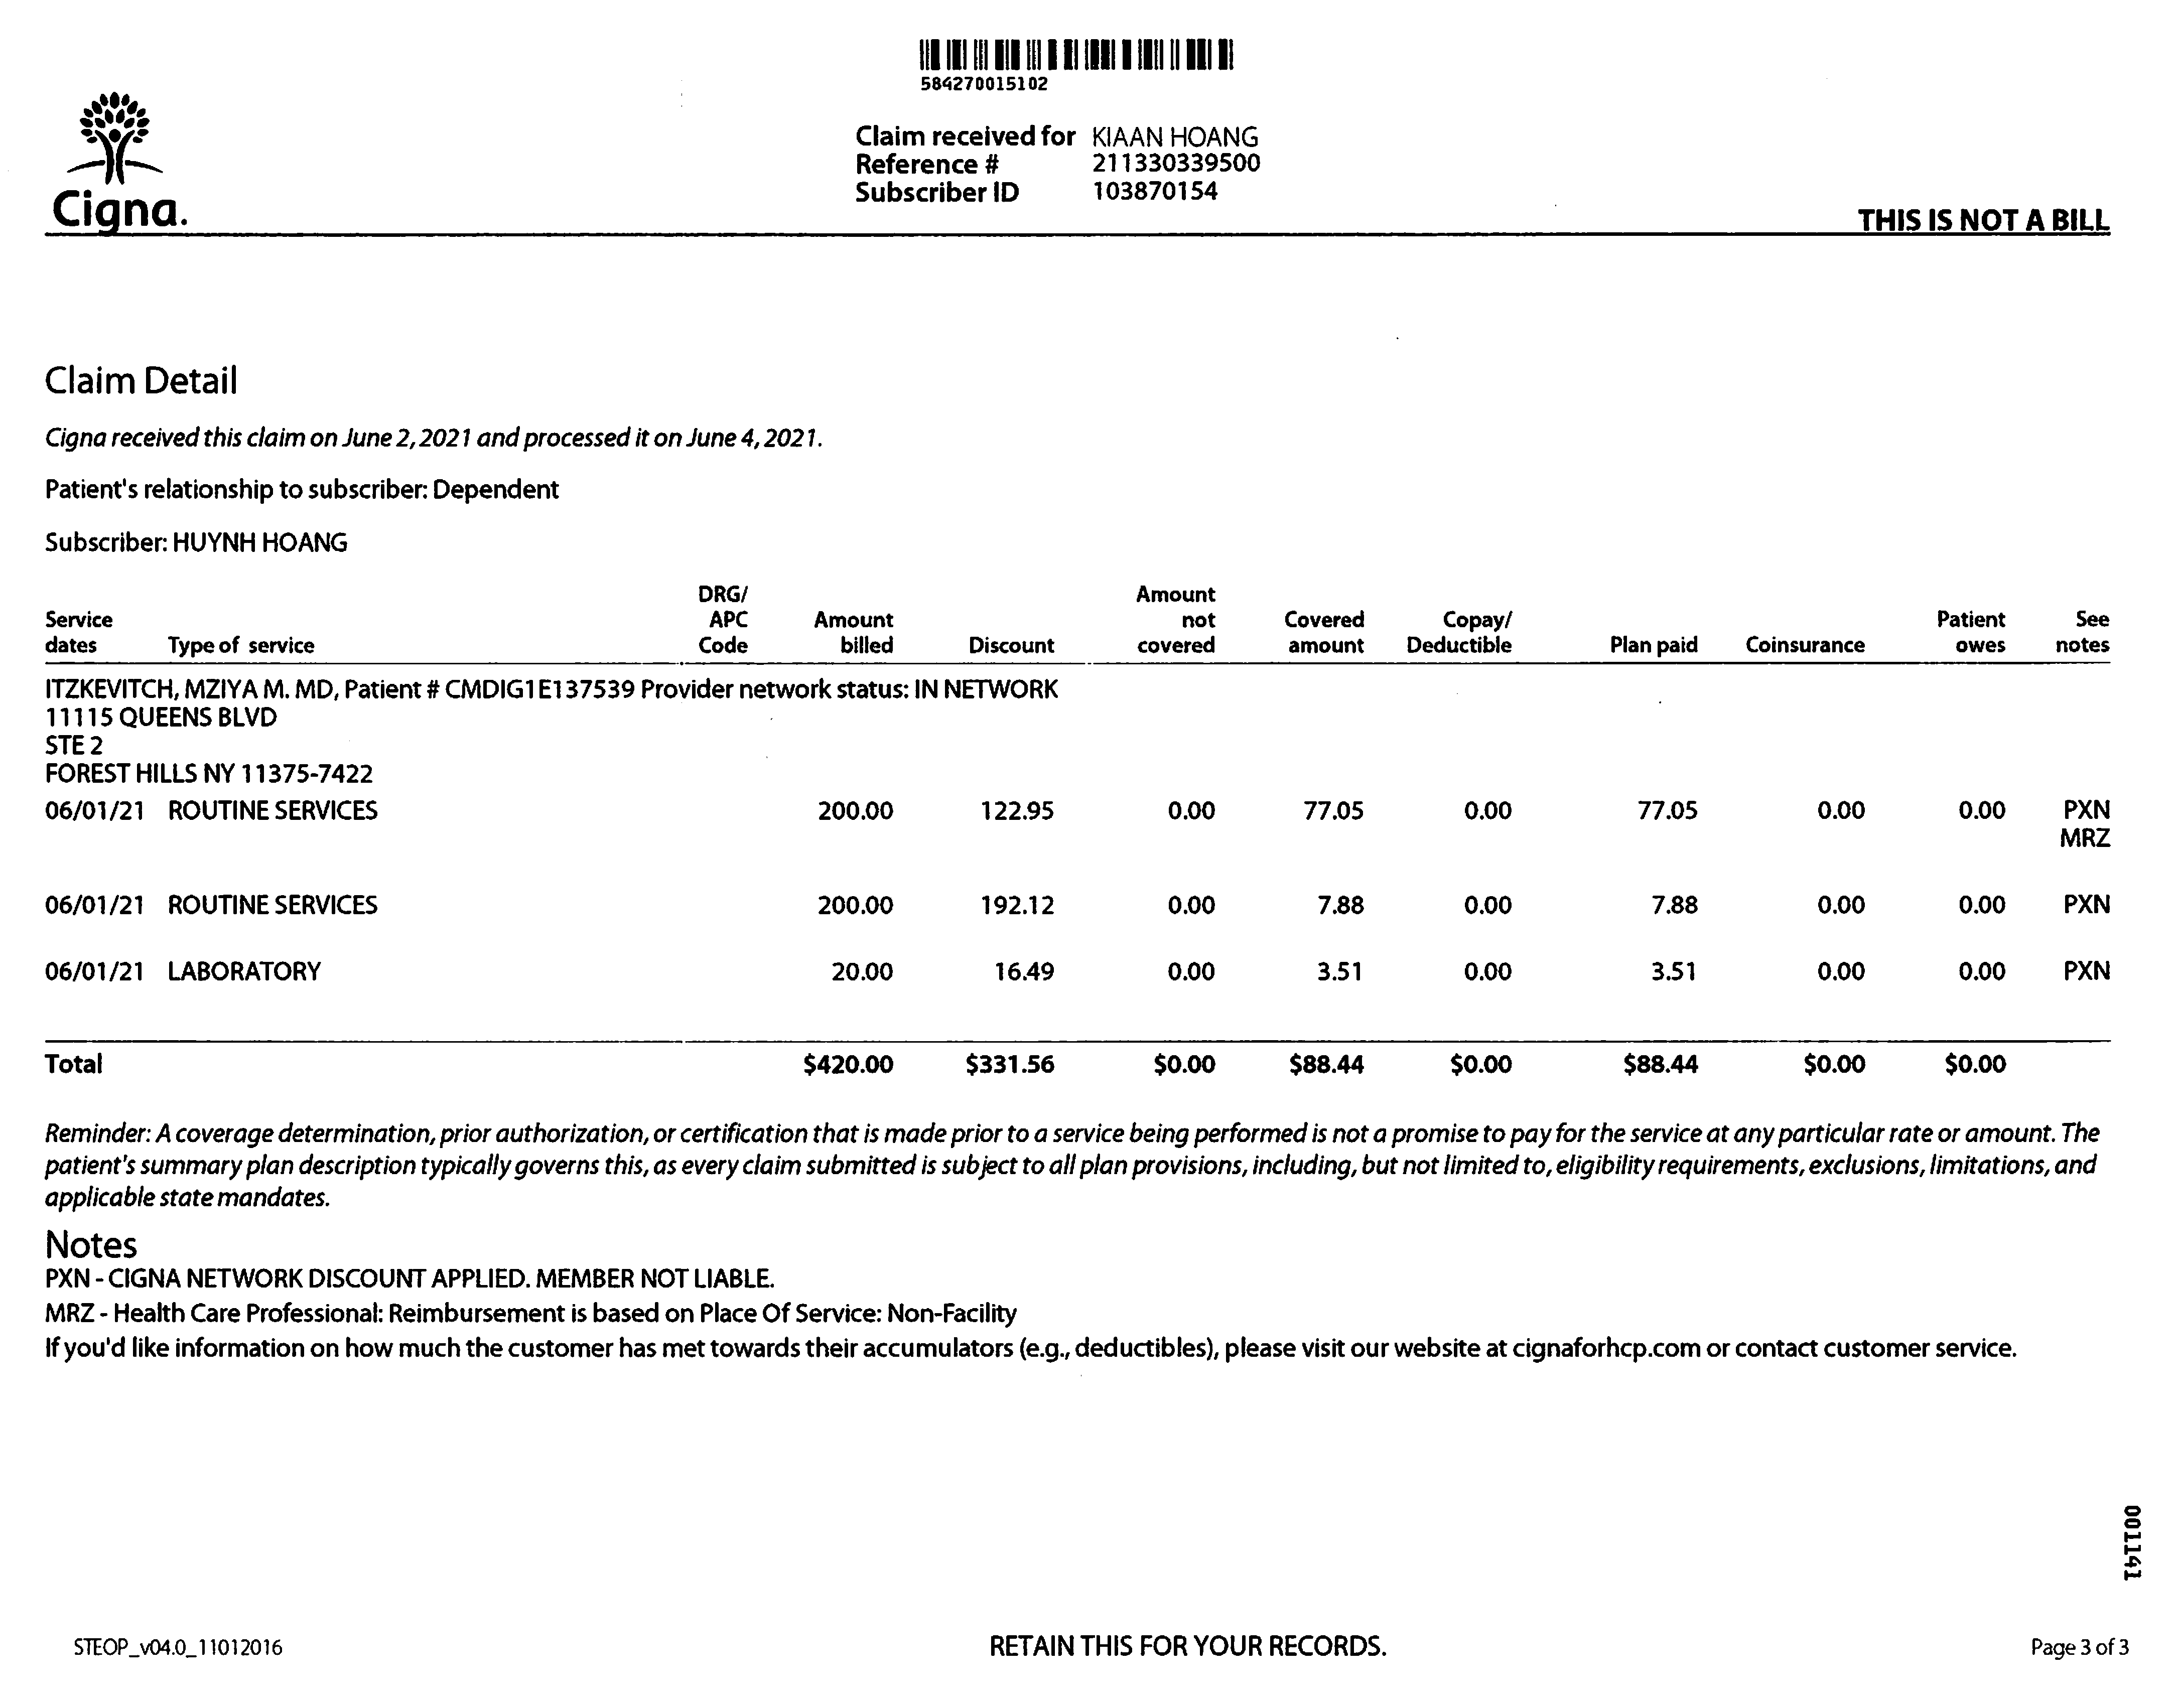data: (834, 103, 1276, 221)
table: (25, 573, 2143, 1094)
